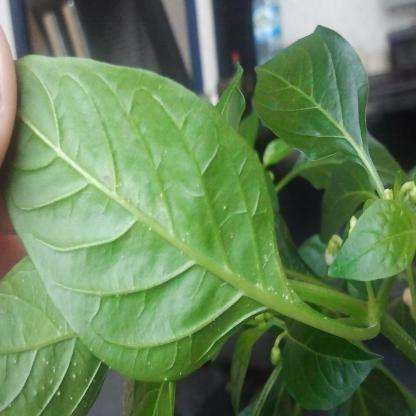Bell_pepper leaf: (3, 33, 292, 377), (251, 20, 375, 172), (320, 196, 416, 284)
